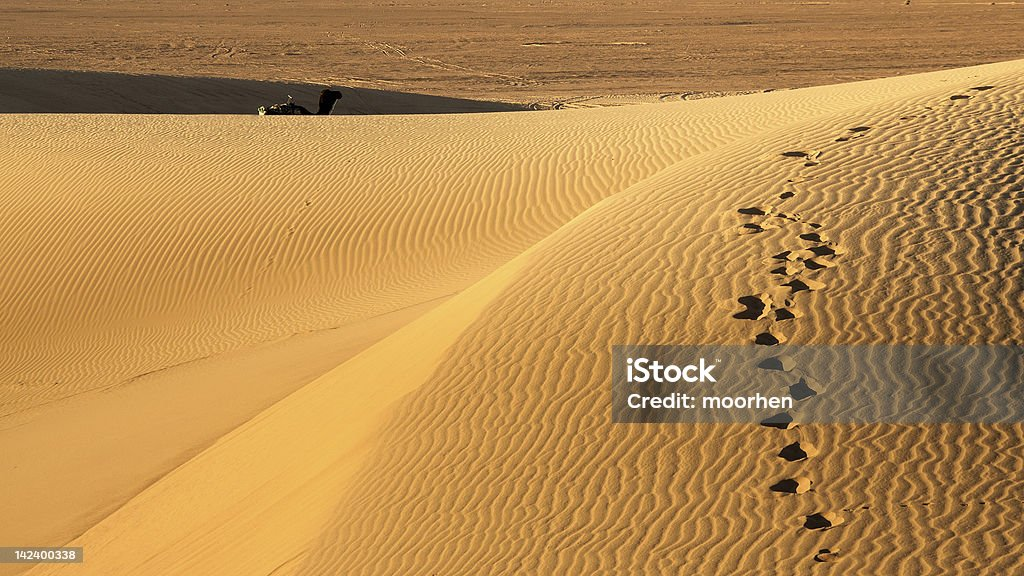animal_footprint: (734, 293, 772, 318), (778, 441, 818, 461), (769, 476, 812, 493), (804, 512, 844, 529), (761, 411, 797, 429), (790, 378, 816, 399), (784, 149, 820, 164), (784, 279, 825, 292), (836, 126, 870, 141), (755, 329, 786, 345), (777, 250, 813, 260), (773, 263, 800, 275), (776, 308, 802, 320), (805, 260, 834, 269), (801, 232, 827, 241), (739, 207, 772, 214)
